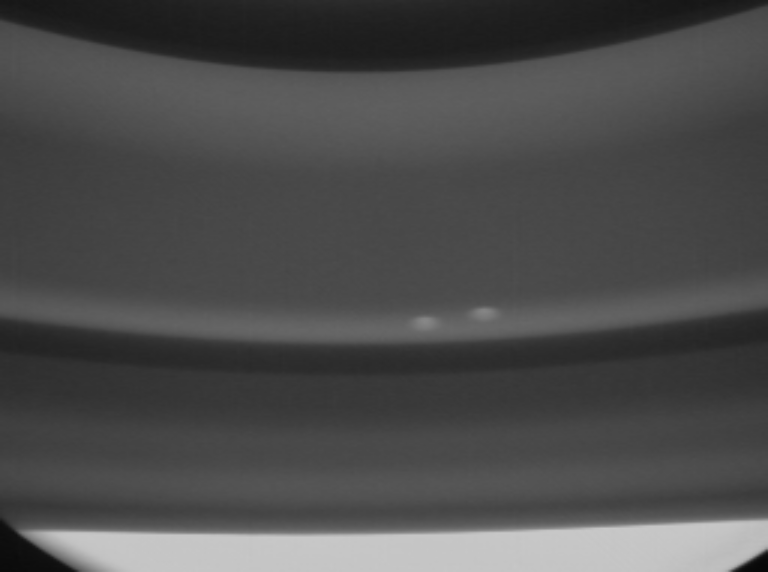defect: (459, 299, 516, 335)
